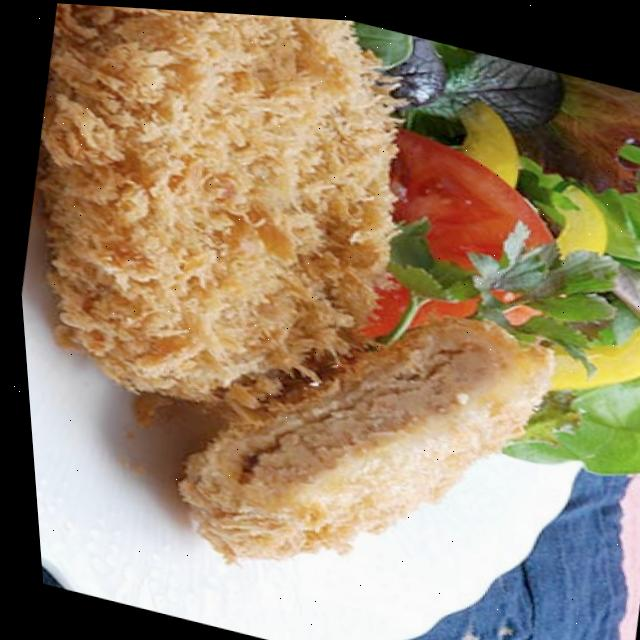炸货点心: (0, 0, 628, 640)
